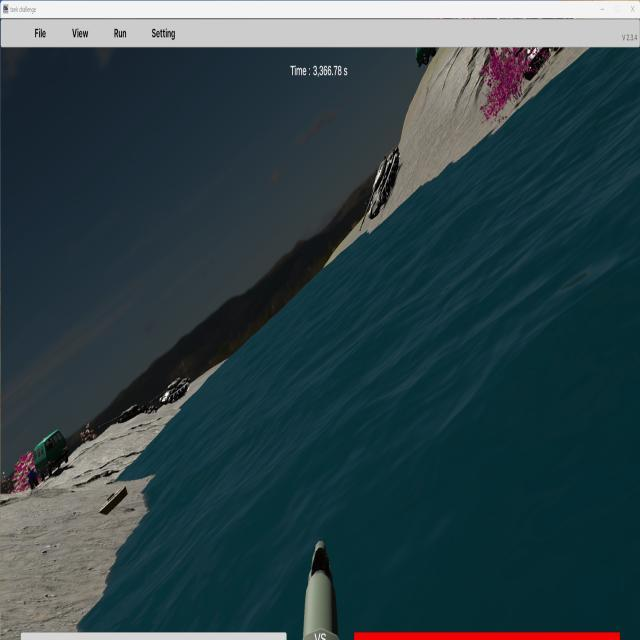Tank: (359, 147, 402, 235), (159, 375, 190, 406)
car: (34, 428, 68, 480), (34, 428, 68, 479)
